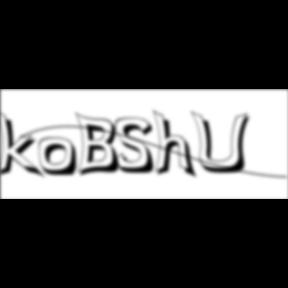B: (76, 111, 126, 179)
S: (115, 117, 161, 176)
U: (190, 110, 256, 176)
h: (154, 108, 200, 182)
k: (0, 108, 48, 181)
o: (39, 137, 81, 179)
